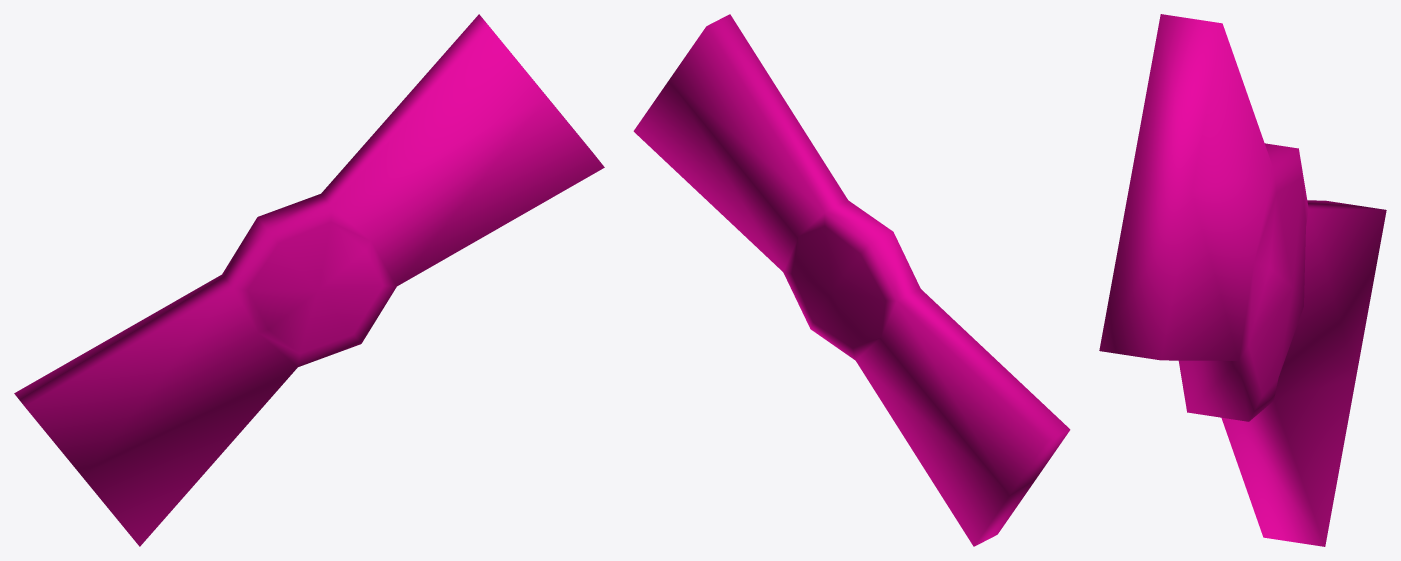
The model's file is Acce_Pin.FBX.
3 views of the same model, side by side, from view 1: azimuth 30°, elevation 25°; view 2: azimuth 150°, elevation 25°; view 3: azimuth 270°, elevation 25° (orthographic). The views are drawn at different scales.
Visible parts, largest first — view 1: Pin; view 2: Pin; view 3: Pin.
Part boxes in pixels (x1=…): Pin: x1=14, y1=14, x2=604, y2=546; Pin: x1=633, y1=14, x2=1070, y2=546; Pin: x1=1099, y1=14, x2=1386, y2=546.
Size of the model in its own units: 9.71 by 8.29 by 2.72.
Materials: 1 (1 with a texture image).
